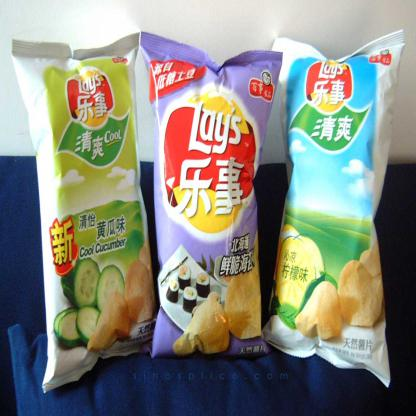potatochip: (7, 31, 164, 398), (257, 28, 410, 391), (136, 23, 286, 365)
